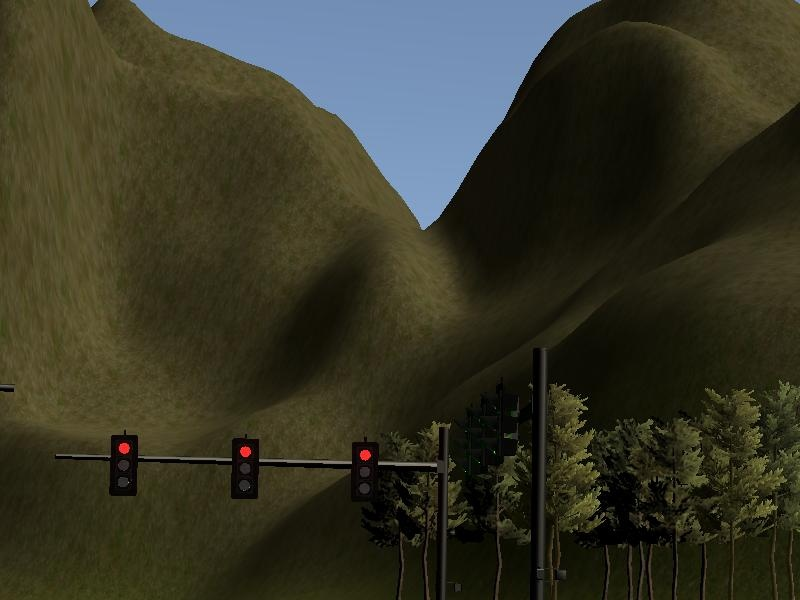red: (224, 429, 272, 509), (343, 429, 384, 515), (103, 421, 143, 509)
